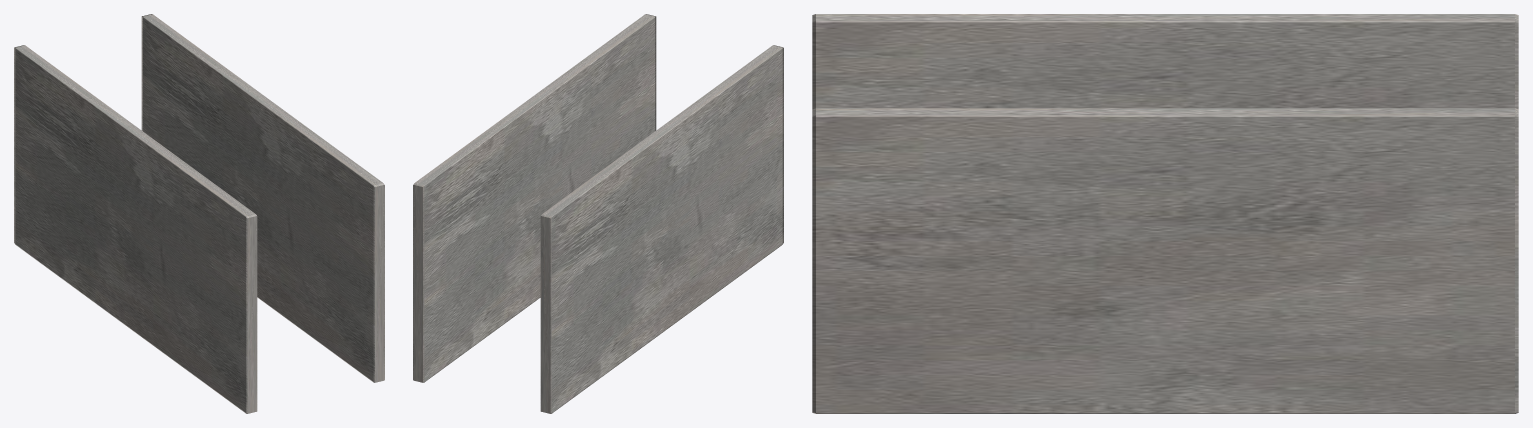
Rendered from NormalStairWall.fbx.
3 renders of one model, left to right at view 1: azimuth 30°, elevation 25°; view 2: azimuth 150°, elevation 25°; view 3: azimuth 270°, elevation 25°, orthographic. The views are drawn at different scales.
Visible parts, largest first — view 1: Baked_Mesh; view 2: Baked_Mesh; view 3: Baked_Mesh.
Boxes of the visible parts, x1=… form: Baked_Mesh: x1=14, y1=14, x2=384, y2=413; Baked_Mesh: x1=413, y1=14, x2=783, y2=413; Baked_Mesh: x1=812, y1=14, x2=1518, y2=413.
Bounding box in the file's own units: 345 × 473 × 1014.
1 material, 1 textured.
